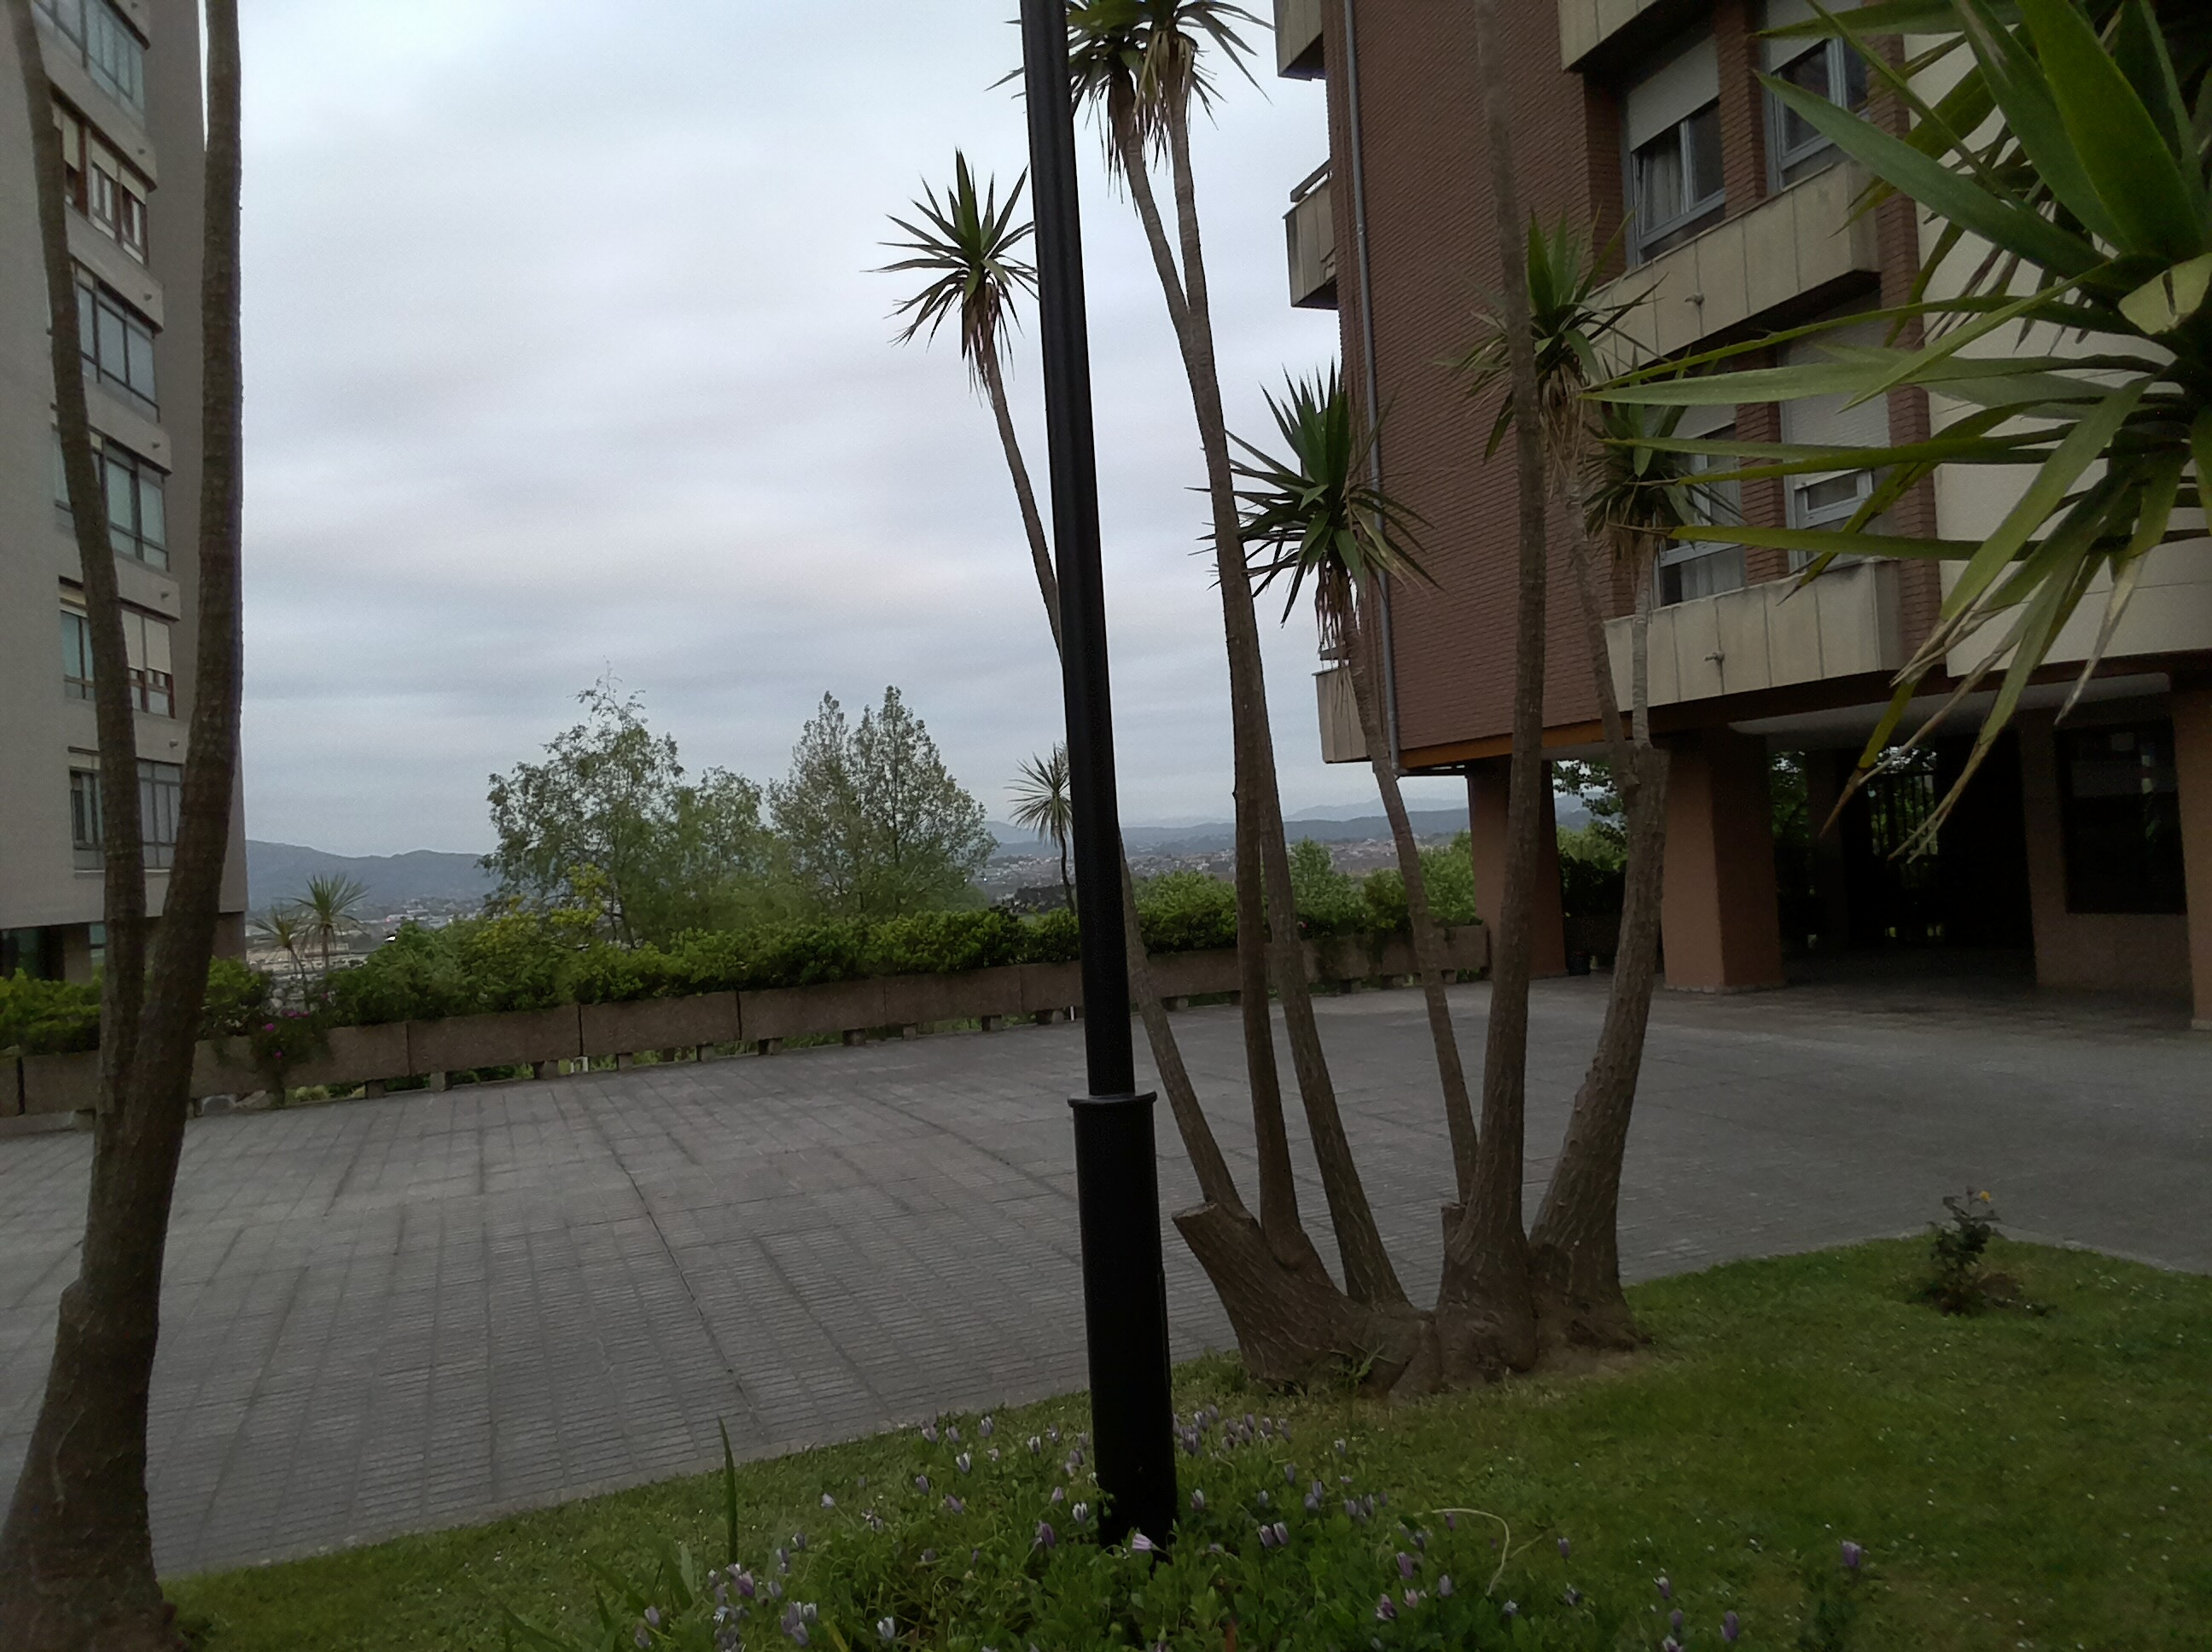Arbol: (949, 78, 1698, 1347), (7, 0, 226, 1643), (1794, 0, 2212, 826)
Poste: (1005, 0, 1211, 1560)
